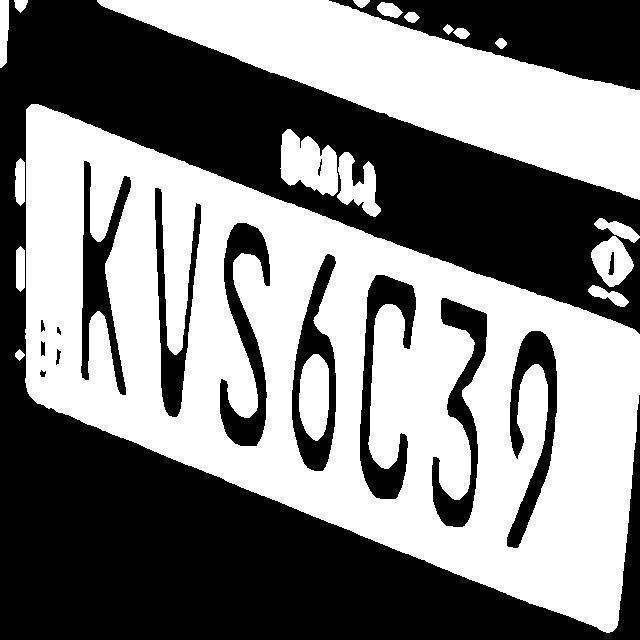3: (420, 299, 496, 537)
6: (276, 221, 348, 474)
9: (496, 319, 566, 553)
c: (350, 258, 424, 502)
k: (72, 150, 139, 402)
s: (208, 215, 277, 452)
v: (138, 185, 203, 424)
